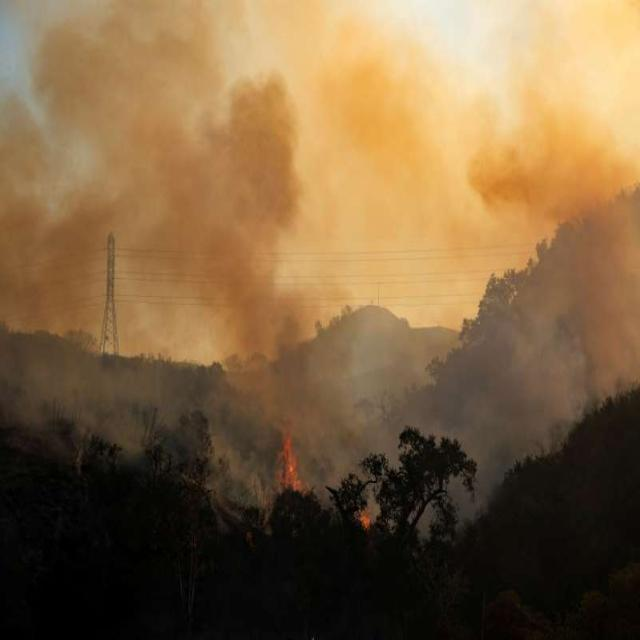Fire: (248, 433, 320, 502), (341, 493, 384, 531)
Smoke: (0, 0, 640, 416)
